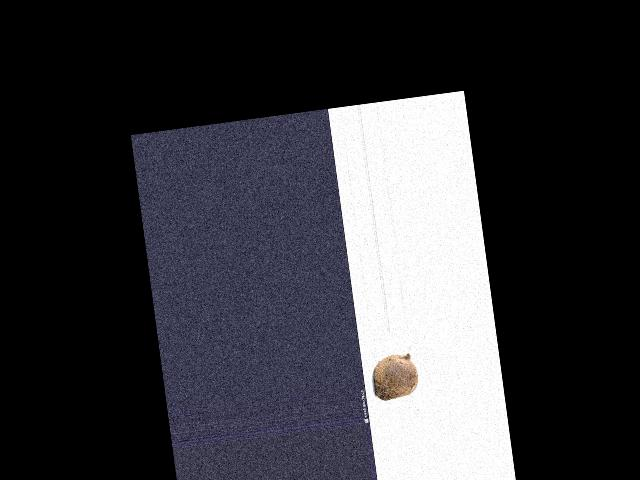beet: (370, 351, 420, 401)
